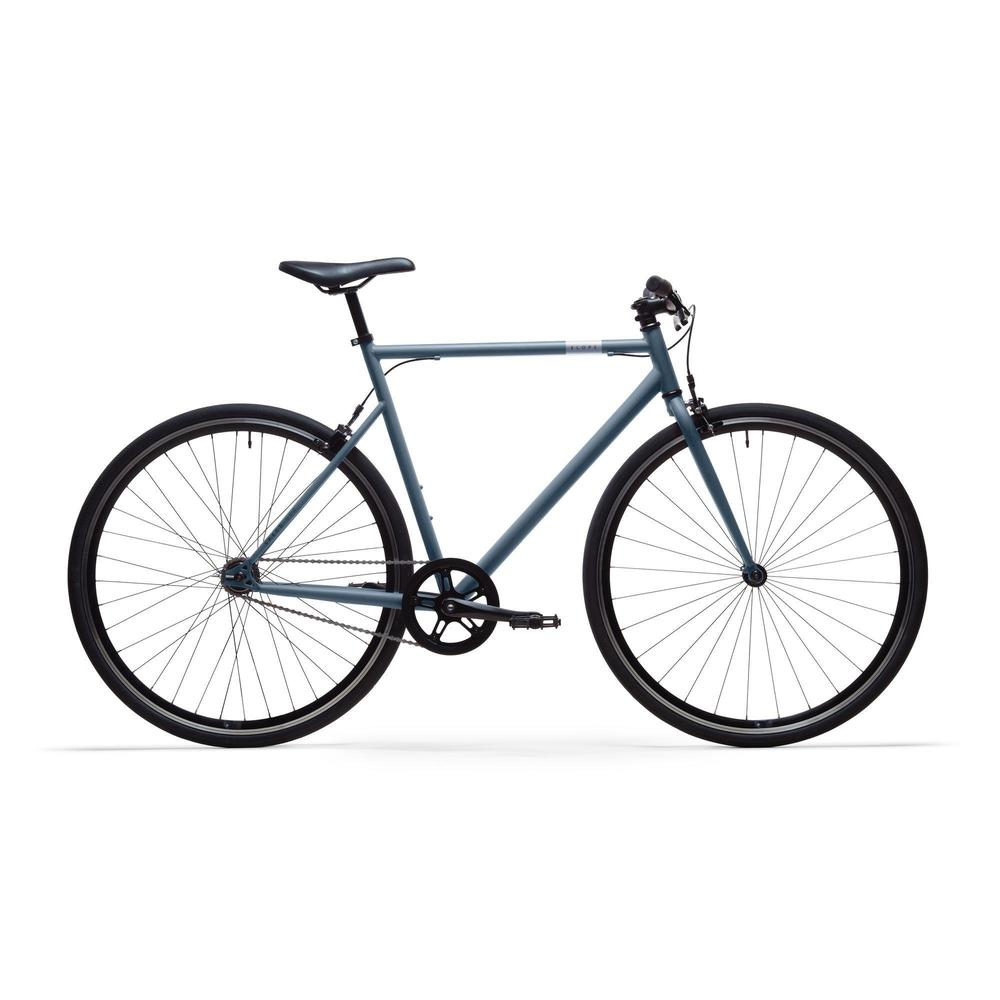UrbanBike: (66, 259, 933, 759)
